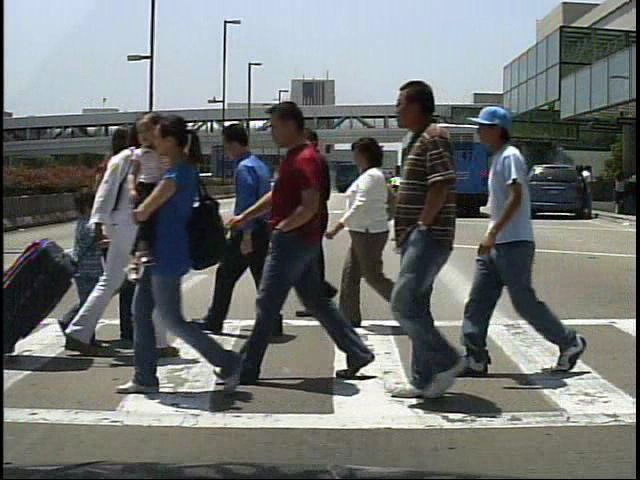person: (380, 84, 509, 421), (69, 113, 180, 363), (263, 94, 350, 385), (478, 102, 560, 379), (198, 123, 296, 346), (323, 135, 420, 334), (283, 130, 355, 322), (89, 115, 145, 361), (47, 194, 110, 349), (582, 167, 602, 218), (508, 166, 528, 215), (497, 166, 515, 218)
